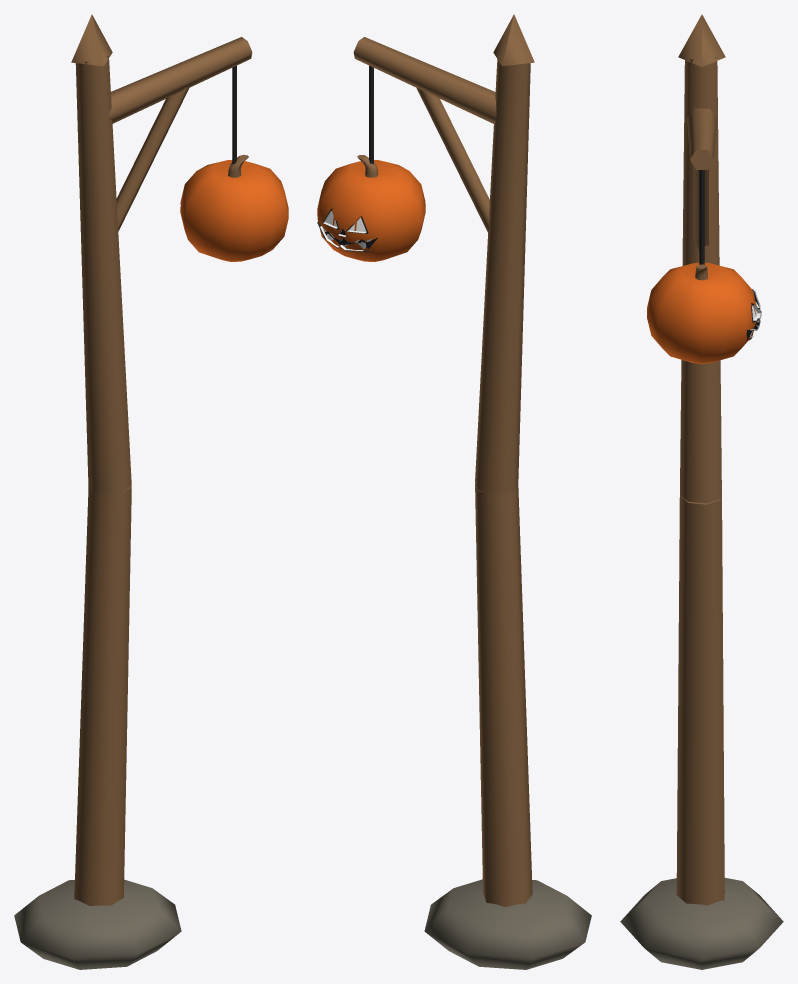
File: LANTERN_POST.glb
3 views of the same model, side by side, from view 1: azimuth 30°, elevation 25°; view 2: azimuth 150°, elevation 25°; view 3: azimuth 270°, elevation 25° (orthographic).
Visible parts, largest first — view 1: wood_1, stone_0, plastic_3; view 2: wood_1, stone_0, plastic_3, tread_2; view 3: wood_1, stone_0, plastic_3, tread_2.
Boxes of the visible parts, x1,y1,x2,y2 form: wood_1: [71, 14, 252, 905]; stone_0: [14, 879, 181, 969]; plastic_3: [180, 160, 288, 261]; wood_1: [353, 14, 534, 906]; stone_0: [424, 879, 591, 969]; plastic_3: [317, 160, 425, 261]; tread_2: [317, 65, 377, 252]; wood_1: [676, 14, 725, 905]; stone_0: [620, 878, 783, 969]; plastic_3: [647, 262, 756, 364]; tread_2: [699, 170, 760, 340].
Bounding box in the file's own units: 0.89 × 3.03 × 0.48.
